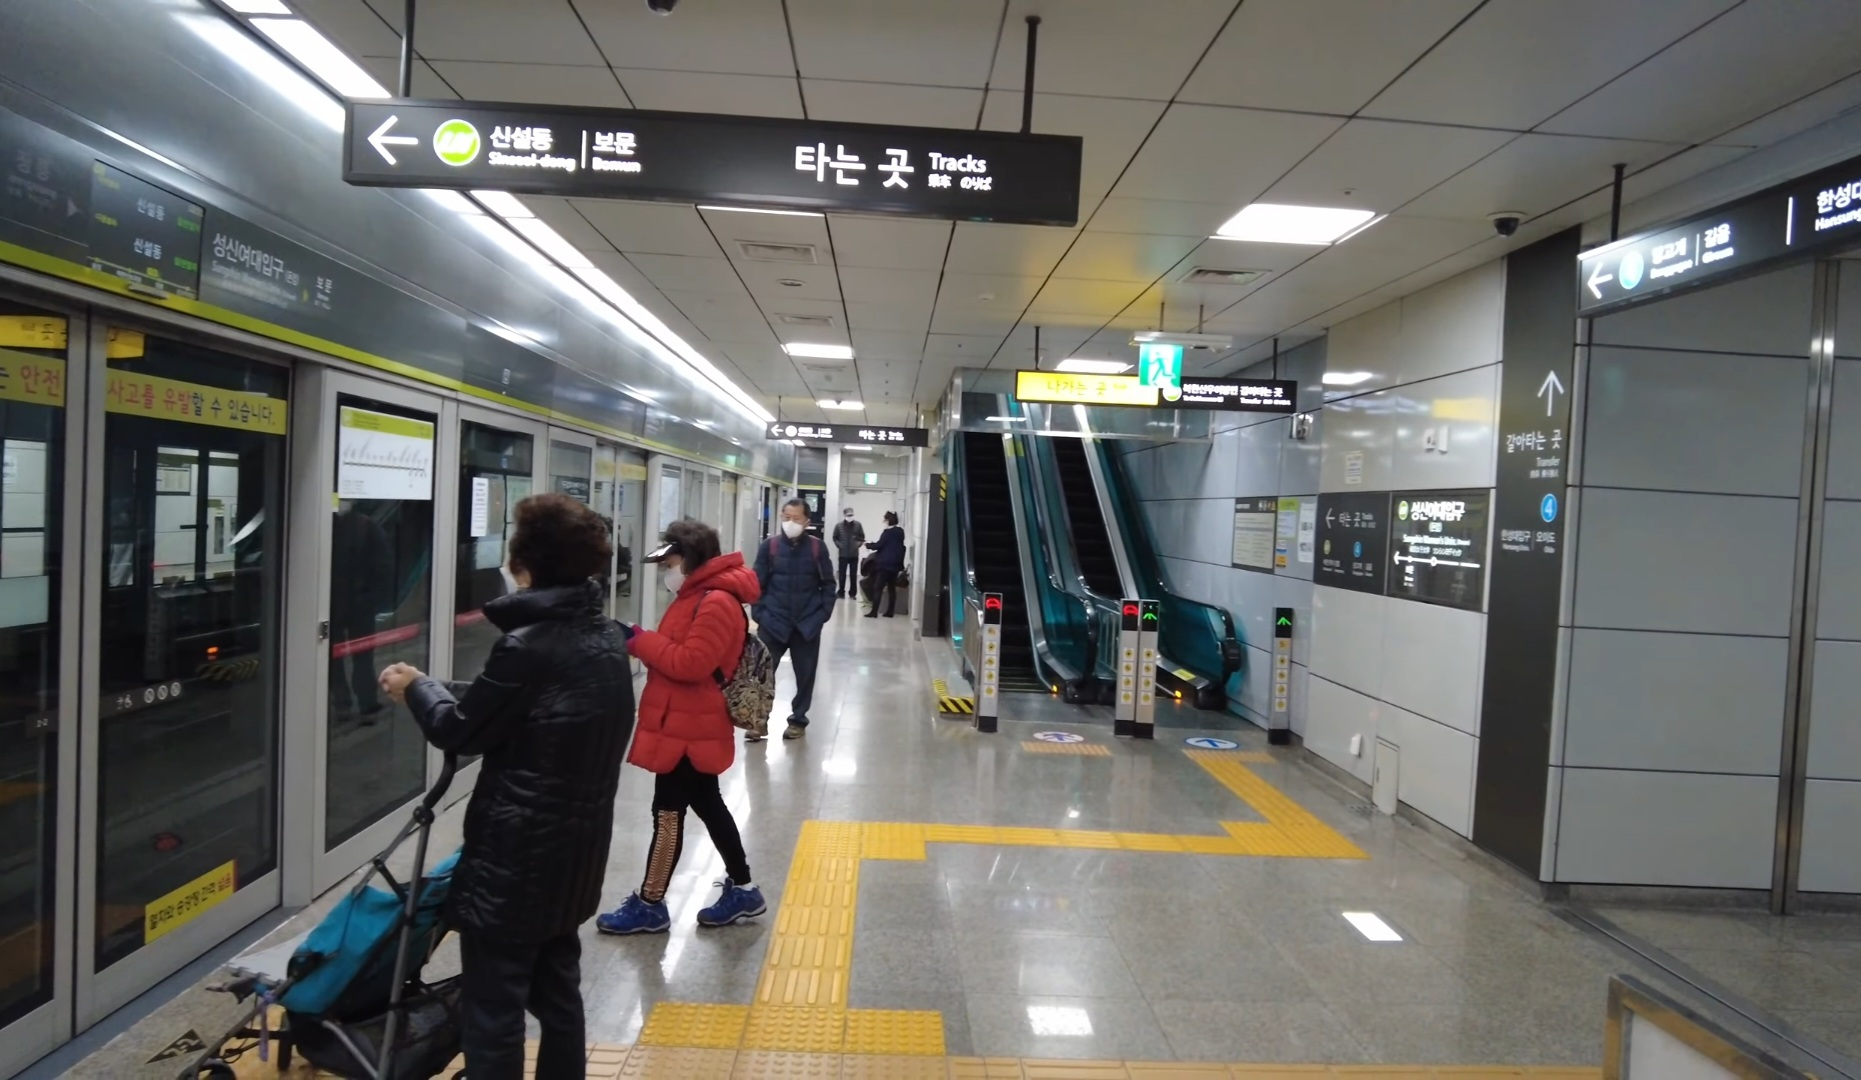guideBlock: (765, 940, 846, 1000), (778, 903, 853, 942), (785, 878, 856, 917)
warningBlock: (754, 1002, 853, 1061), (659, 1003, 745, 1048), (855, 1004, 933, 1052)
